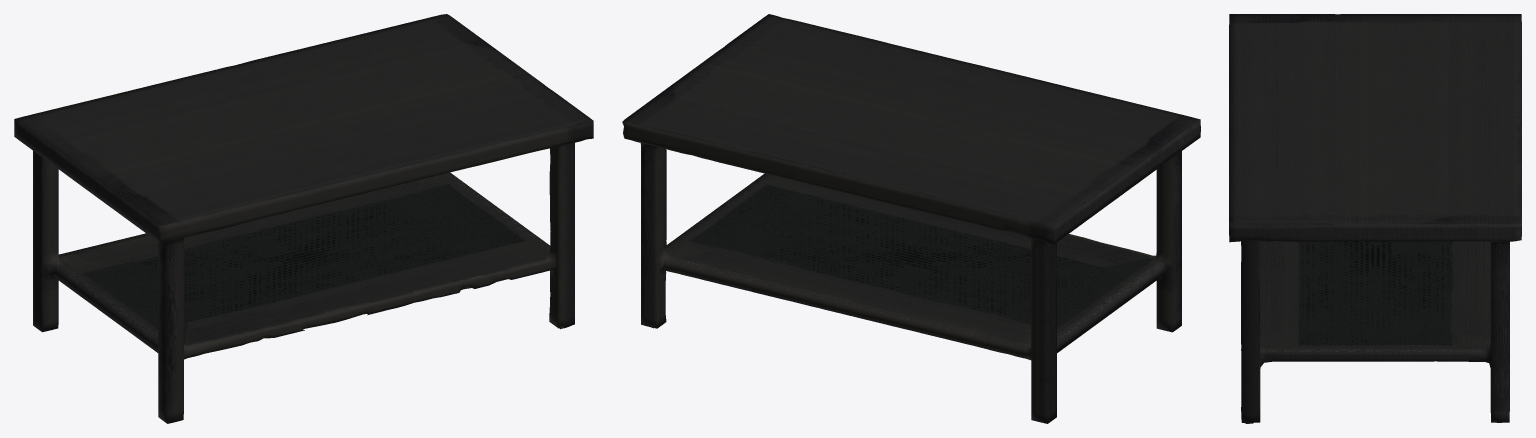
File: Obsidian_Coffee_Table.glb
3 renders of one model, left to right at view 1: azimuth 30°, elevation 25°; view 2: azimuth 150°, elevation 25°; view 3: azimuth 270°, elevation 25°, orthographic.
Bounding box in the file's own units: 1.91 × 0.8822 × 1.12.
1 material, 1 textured.
